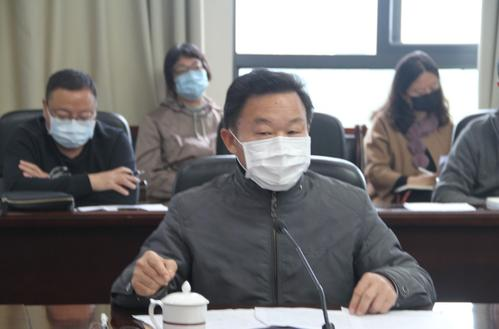Mask: (233, 93, 313, 191), (47, 85, 102, 148), (169, 56, 210, 100), (407, 68, 443, 114)
